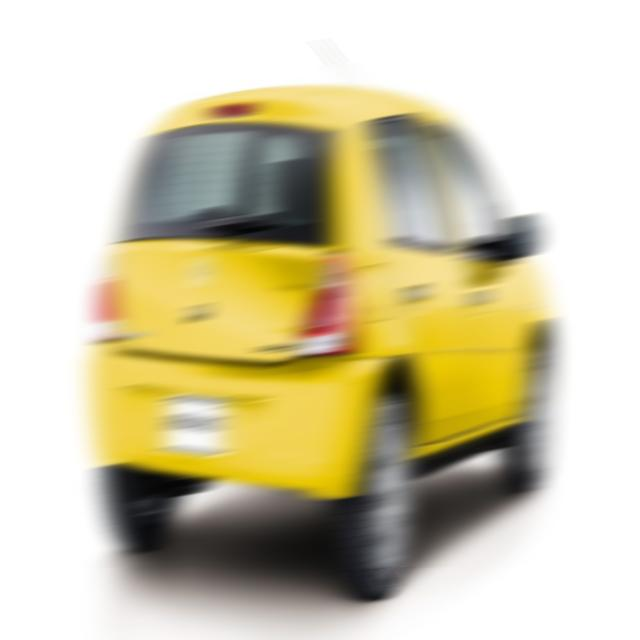Taxi: (75, 63, 575, 567)
